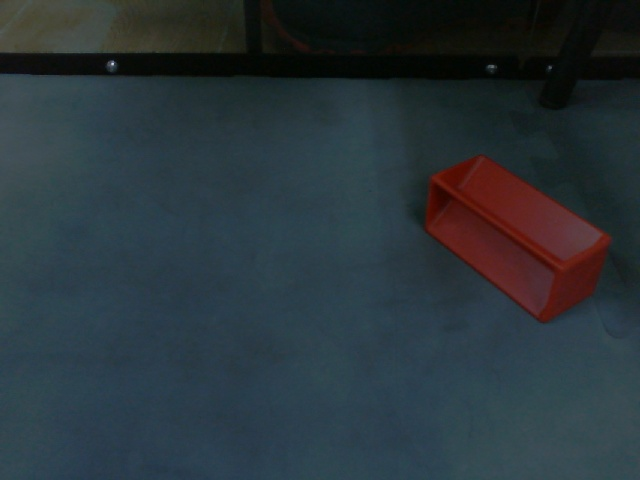RedSample: (422, 151, 614, 325)
